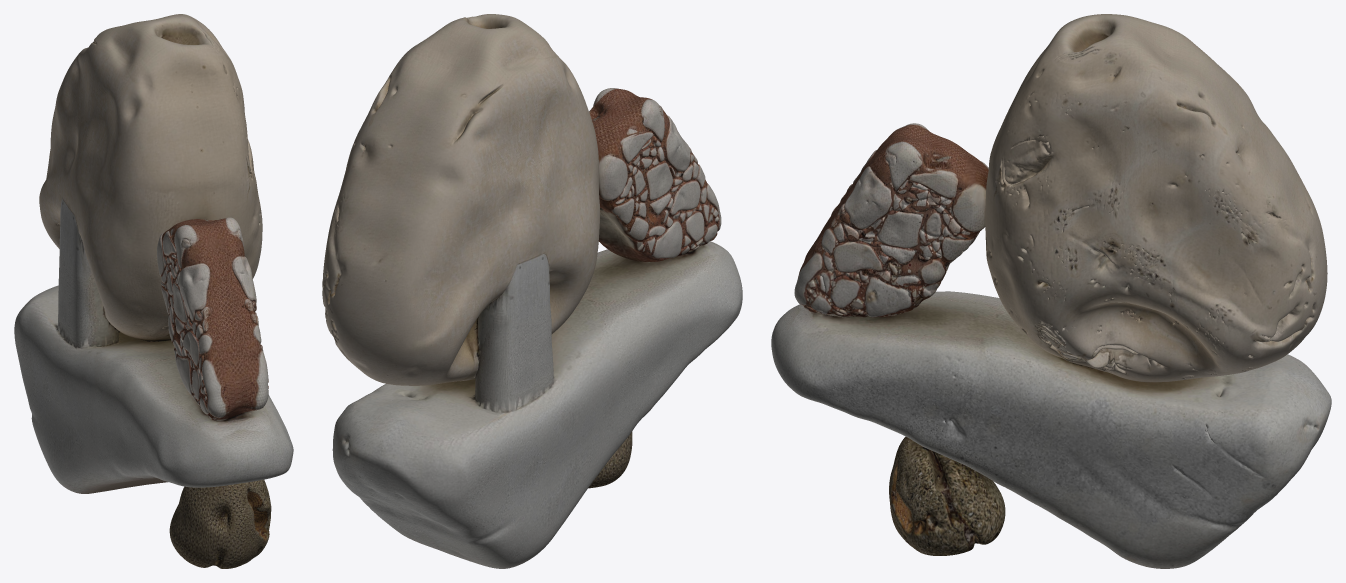
File: deishi3-v1.glb
3 views of the same model, side by side, from view 1: azimuth 30°, elevation 25°; view 2: azimuth 150°, elevation 25°; view 3: azimuth 270°, elevation 25° (orthographic). The views are drawn at different scales.
Parts seen in each view (by area): view 1: tripo_node_30d3b024-818c-4771-8f61-0d309f860332; view 2: tripo_node_30d3b024-818c-4771-8f61-0d309f860332; view 3: tripo_node_30d3b024-818c-4771-8f61-0d309f860332.
Part boxes in pixels (left/top/right/bottom): tripo_node_30d3b024-818c-4771-8f61-0d309f860332: left=14, top=14, right=293, bottom=568; tripo_node_30d3b024-818c-4771-8f61-0d309f860332: left=322, top=14, right=742, bottom=568; tripo_node_30d3b024-818c-4771-8f61-0d309f860332: left=771, top=14, right=1331, bottom=568.
Size of the model in its own units: 0.4438 by 0.9796 by 0.937.
1 material, 1 textured.
